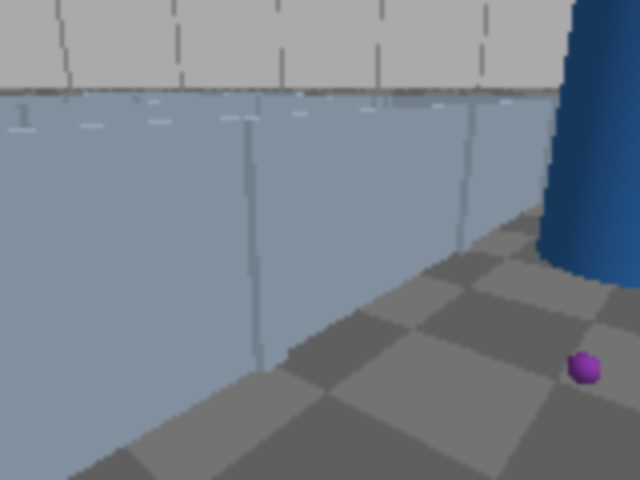person: (540, 0, 638, 283)
puck: (564, 344, 604, 394)
